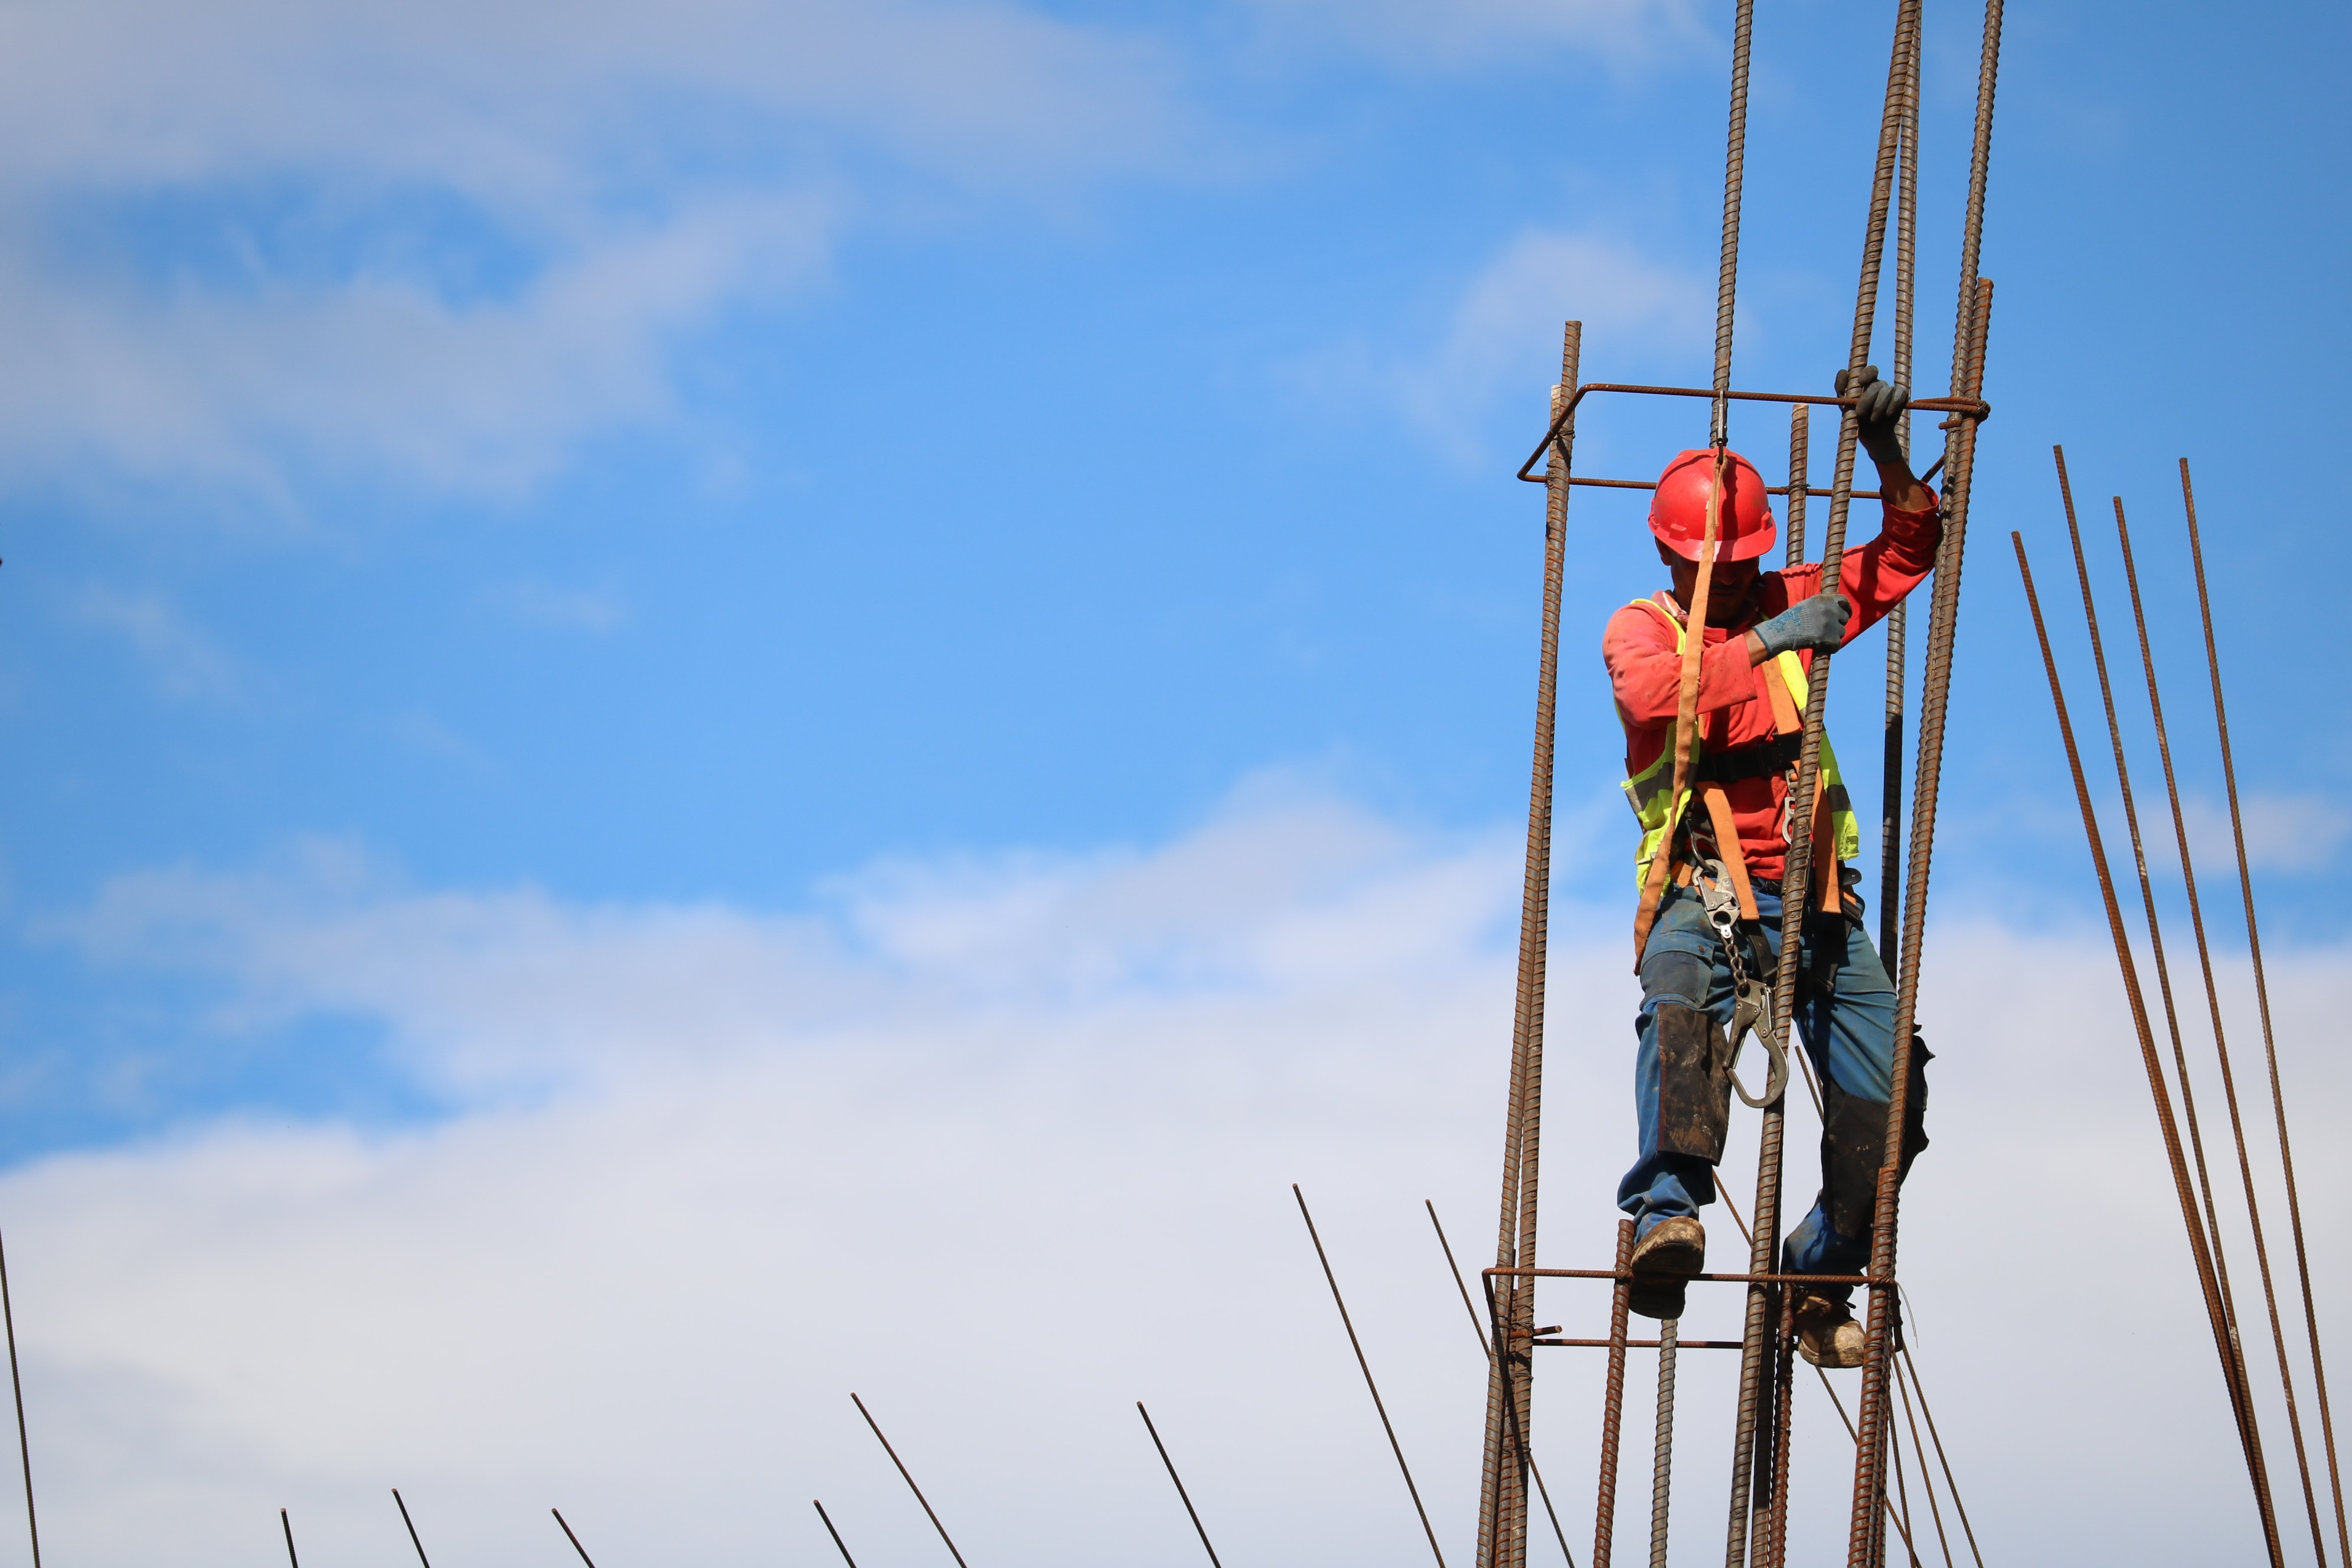Helmet: (1638, 443, 1783, 591)
Reflective vest: (1610, 583, 1866, 908)
